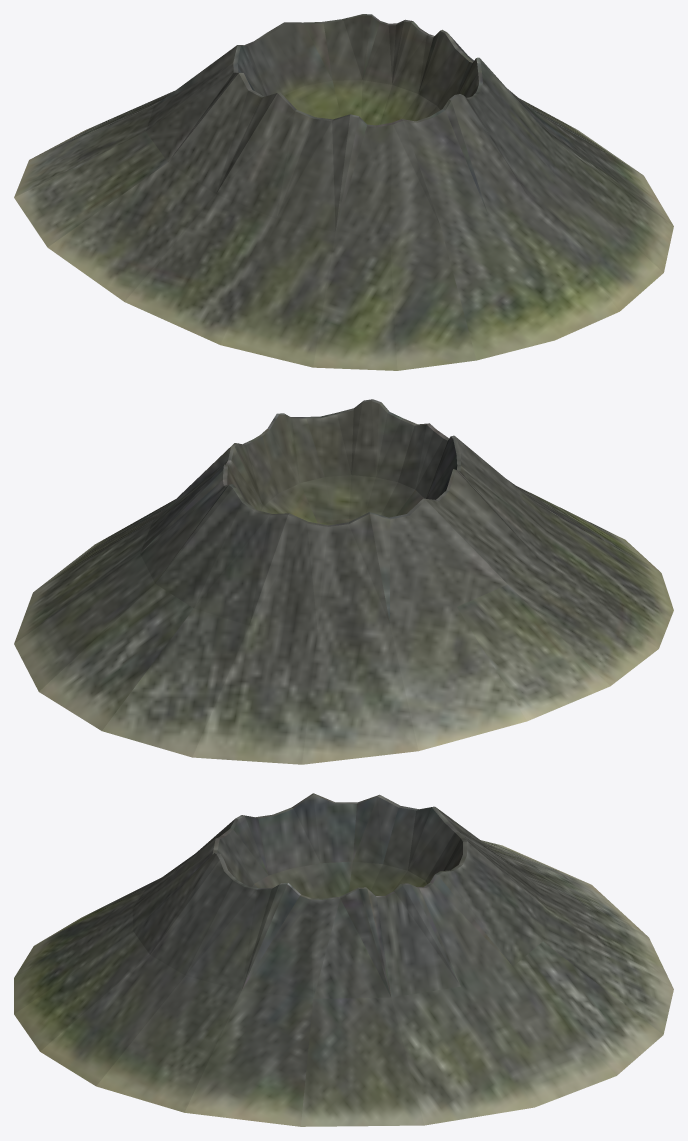
The model's file is volcano_game.glb.
The picture shows the model from 3 angles, top to bottom: view 1: azimuth 30°, elevation 25°; view 2: azimuth 150°, elevation 25°; view 3: azimuth 270°, elevation 25°; orthographic projection. The views are drawn at different scales.
Visible parts, largest first — view 1: geometry_0; view 2: geometry_0; view 3: geometry_0.
Part boxes in pixels (x1,y1,x2,y2): geometry_0: [14, 14, 673, 370]; geometry_0: [14, 399, 673, 764]; geometry_0: [14, 793, 673, 1126].
Bounding box in the file's own units: 274 × 80.32 × 291.
1 material, 1 textured.
